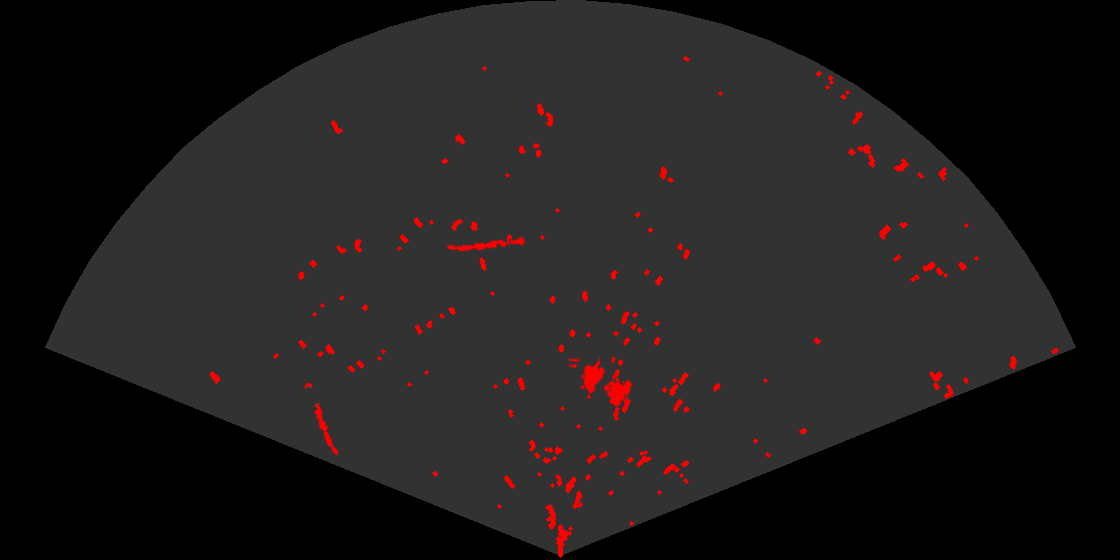cage: (569, 357, 634, 409)
chain: (302, 378, 340, 457), (445, 235, 527, 253)
